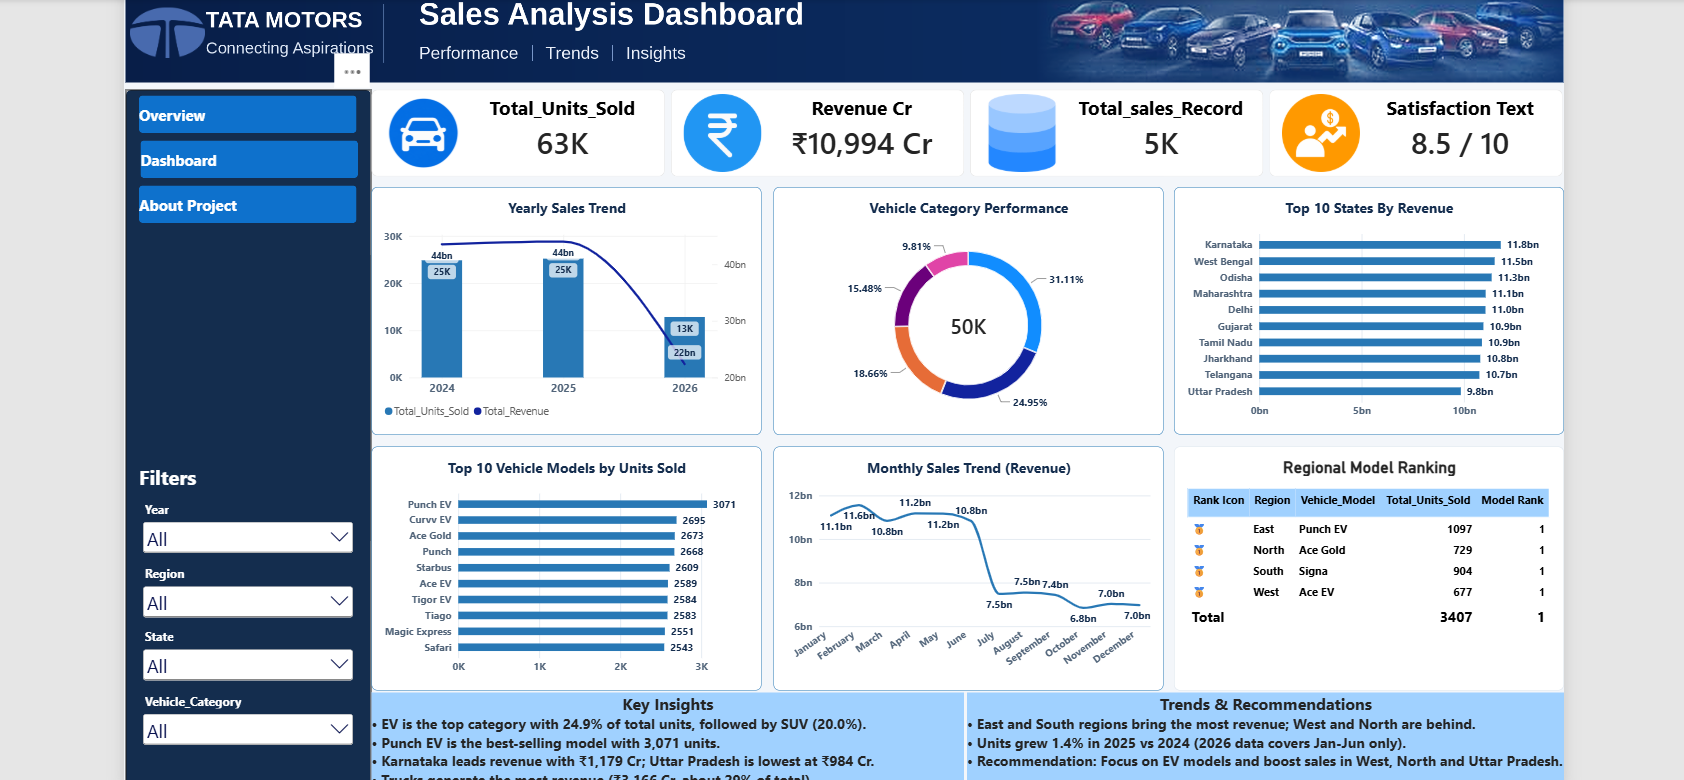

Layout of this report page (visuals, bound fields, positions):
{"tool":"powerbi","page":{"name":"Overview","canvas":[1920,1080],"ordinal":0},"visuals":[{"type":"image","box":[2.5,0,1917.5,132.5],"z":0},{"type":"shape","box":[2.3,141.9,328,937.5],"z":1000},{"type":"slicer","fields":{"Values":["tata_motors tata_motors_cleaned.Region"]},"box":[20,775,290,75],"z":2000},{"type":"slicer","fields":{"Values":["tata_motors tata_motors_cleaned.Vehicle_Category"]},"box":[20,945,290,75],"z":3000},{"type":"slicer","fields":{"Values":["tata_motors tata_motors_cleaned.State"]},"box":[20.9,860.7,290,75],"z":4000},{"type":"slicer","fields":{"Values":["tata_motors tata_motors_cleaned.Year"]},"box":[20.9,690.9,290,75],"z":5000},{"type":"clusteredBarChart","title":"Top 10 Vehicle Models by Units Sold","fields":{"Category":["tata_motors tata_motors_cleaned.Vehicle_Model"],"Y":["Sum(tata_motors tata_motors_cleaned.Units_Sold)"]},"box":[330,617,520,325],"z":6000},{"type":"lineChart","title":"Monthly Sales Trend (Revenue)","fields":{"Category":["tata_motors tata_motors_cleaned.Month"],"Y":["tata_motors tata_motors_cleaned.Total_Revenue"]},"box":[865,617,520,325],"z":7000},{"type":"donutChart","title":"Vehicle Category Performance","fields":{"Category":["tata_motors tata_motors_cleaned.Vehicle_Category"],"Y":["Sales.Total_Units_Sold"]},"box":[865,272.2,520,330.3],"z":8000},{"type":"image","box":[7.5,0,100,132.5],"z":17000},{"type":"cardVisual","fields":{"Data":["tata_motors tata_motors_cleaned.Total_Units_Sold","Sales.Revenue Cr","tata_motors tata_motors_cleaned.Total_sales_Record","Sales.Satisfaction Text"]},"box":[330.3,141.9,1588.9,116.3],"z":19000},{"type":"lineStackedColumnComboChart","title":"Yearly Sales Trend","fields":{"Category":["tata_motors tata_motors_cleaned.Year"],"Y":["tata_motors tata_motors_cleaned.Total_Units_Sold"],"Y2":["Sales.Total_Revenue"]},"box":[330.3,272.2,520,330.3],"z":20000},{"type":"clusteredBarChart","title":"Top 10 States By Revenue","fields":{"Category":["tata_motors tata_motors_cleaned.State"],"Y":["tata_motors tata_motors_cleaned.Total_Revenue"]},"box":[1400,272.2,520,330],"z":21000},{"type":"tableEx","title":"Regional Model Ranking","fields":{"Values":["Sales.Rank Icon","tata_motors tata_motors_cleaned.Region","tata_motors tata_motors_cleaned.Vehicle_Model","Sales.Total_Units_Sold","Sales.Model Rank"]},"box":[1400,617,520,325],"z":22000},{"type":"textbox","box":[330.3,946.8,790,132.6],"z":23000},{"type":"textbox","box":[1123,946.8,797,132.6],"z":24000},{"type":"actionButton","box":[20,150,290,50],"z":24002},{"type":"actionButton","box":[21.9,210,290,50],"z":24003},{"type":"actionButton","box":[20,270,290,50],"z":24004},{"type":"textbox","box":[20,640,290,40],"z":24005}]}

Visuals, with their boxes on the page's 1920x1080 design canvas (x1, y1, x2, y2). These are canvas units, not pixel positions in the 1684x780 screenshot, which may show the page scaled, cropped or inside an application window:
image: (2, 0, 1920, 132)
shape: (2, 142, 330, 1079)
slicer - tata_motors tata_motors_cleaned.Region: (20, 775, 310, 850)
slicer - tata_motors tata_motors_cleaned.Vehicle_Category: (20, 945, 310, 1020)
slicer - tata_motors tata_motors_cleaned.State: (21, 861, 311, 936)
slicer - tata_motors tata_motors_cleaned.Year: (21, 691, 311, 766)
"Top 10 Vehicle Models by Units Sold" clusteredBarChart: (330, 617, 850, 942)
"Monthly Sales Trend (Revenue)" lineChart: (865, 617, 1385, 942)
"Vehicle Category Performance" donutChart: (865, 272, 1385, 602)
image: (8, 0, 108, 132)
cardVisual - tata_motors tata_motors_cleaned.Total_Units_Sold x Sales.Revenue Cr: (330, 142, 1919, 258)
"Yearly Sales Trend" lineStackedColumnComboChart: (330, 272, 850, 602)
"Top 10 States By Revenue" clusteredBarChart: (1400, 272, 1920, 602)
"Regional Model Ranking" tableEx: (1400, 617, 1920, 942)
textbox: (330, 947, 1120, 1079)
textbox: (1123, 947, 1920, 1079)
actionButton: (20, 150, 310, 200)
actionButton: (22, 210, 312, 260)
actionButton: (20, 270, 310, 320)
textbox: (20, 640, 310, 680)
